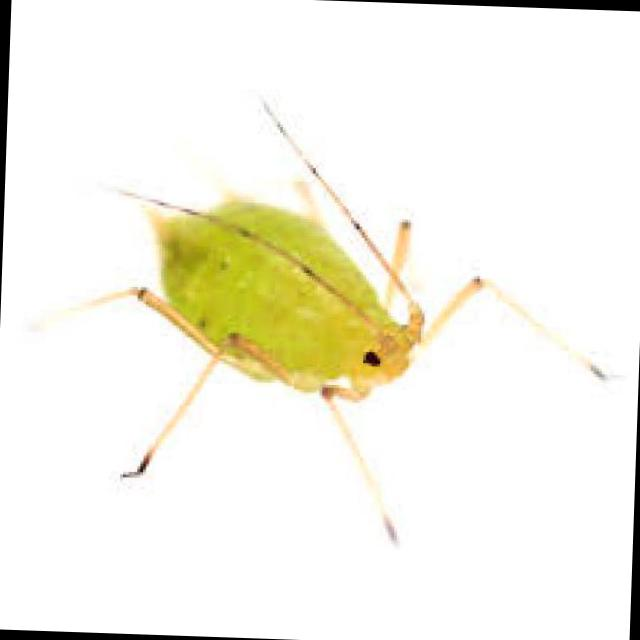aphid: (53, 85, 560, 538)
